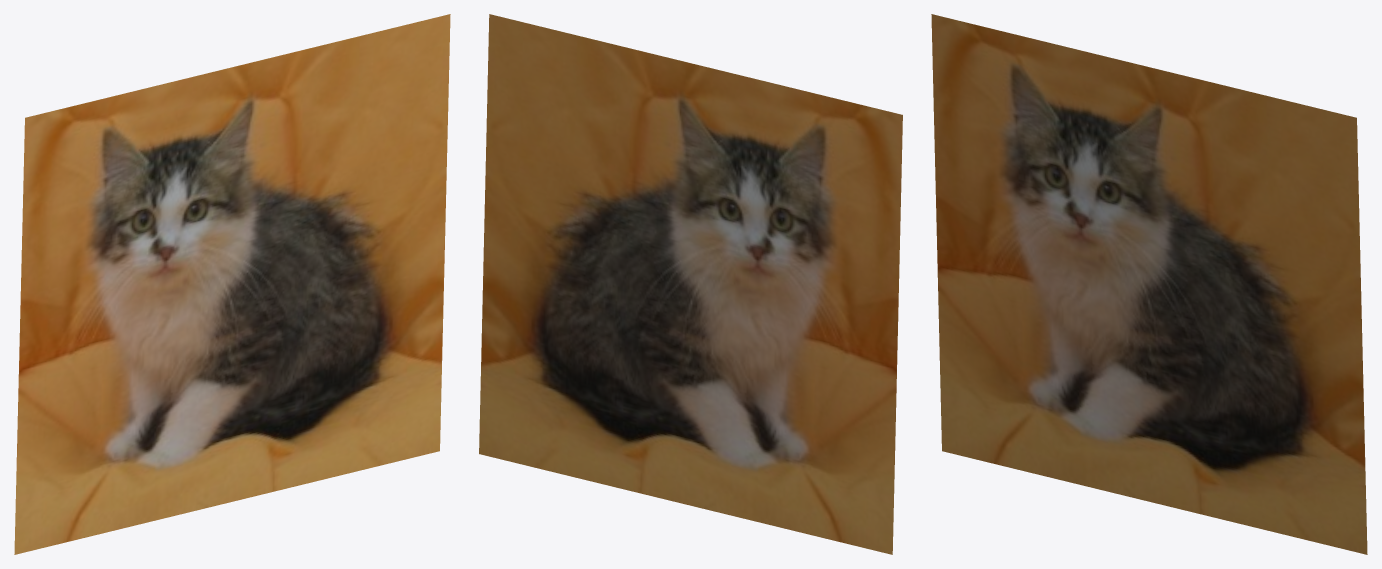
The model's file is neco-board.glb.
3 renders of one model, left to right at view 1: azimuth 30°, elevation 25°; view 2: azimuth 150°, elevation 25°; view 3: azimuth 330°, elevation 25°, orthographic. The views are drawn at different scales.
Parts seen in each view (by area): view 1: LogoBoard; view 2: LogoBoard; view 3: LogoBoard.
Part boxes in pixels (x1,y1,x2,y2): LogoBoard: (14, 14, 450, 554); LogoBoard: (479, 14, 902, 554); LogoBoard: (931, 14, 1367, 554).
Size of the model in its own units: 4 by 4 by 0.1714.
Materials: 1 (1 with a texture image).
